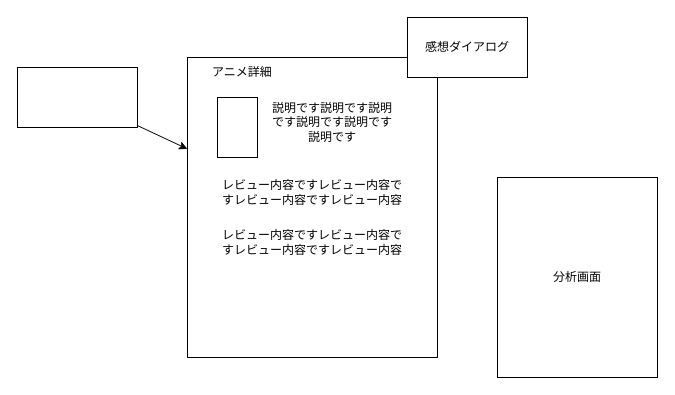
This 675x395 diagram has some shape labels left out. The shapes that lost their labels are listed below. From the top down, each one's centre as x and y in pixels, then its label:
point 77,97: ホーム
point 237,127: 画像
